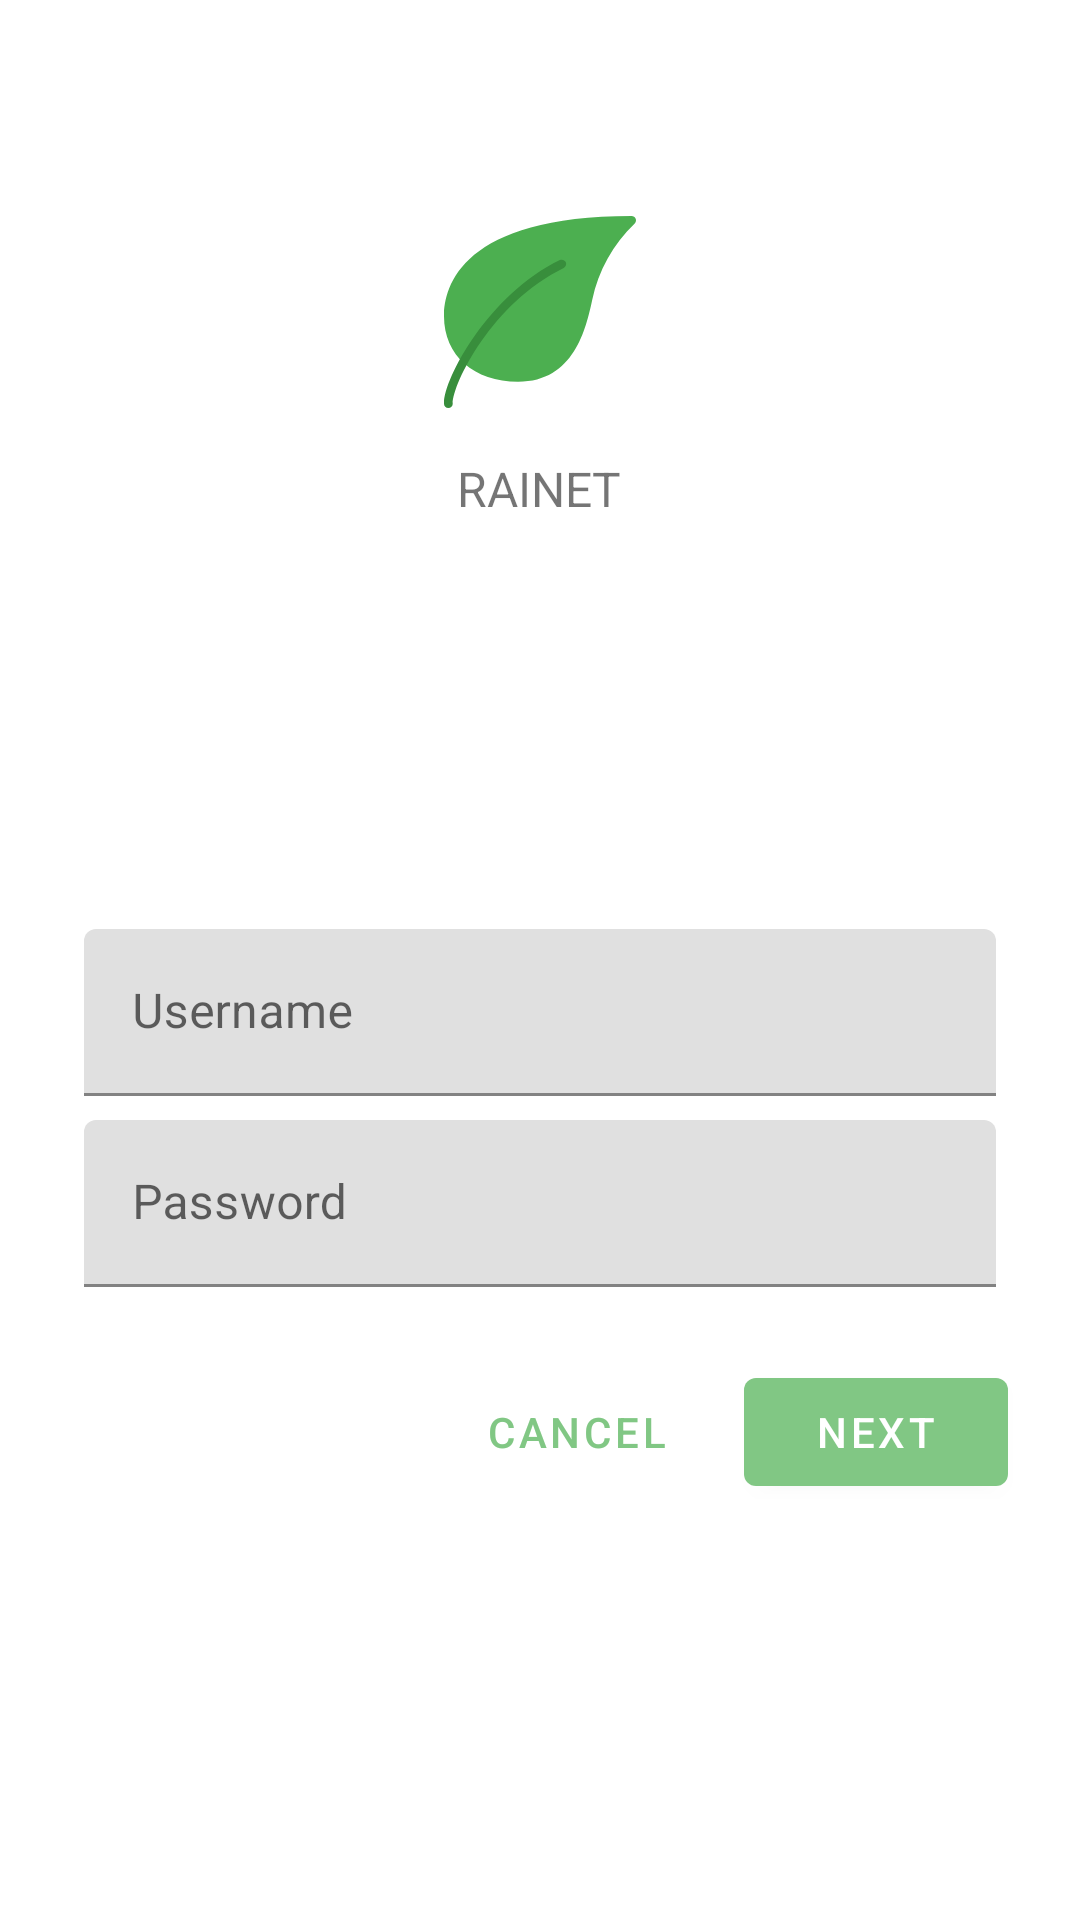

Where to tap for icons on this 1080w x 1920h app screen, as [x,y]:
leaf: [540,312]
